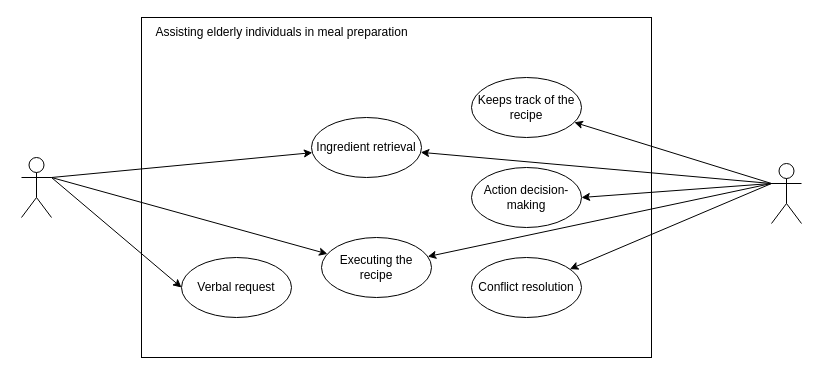
Some shapes in this 837 by 375 pixel diagram are drawn without their labels. Each missing label, with the box of its shape:
Human: (20, 156, 52, 218)
TIAgo Robot: (770, 162, 802, 224)
